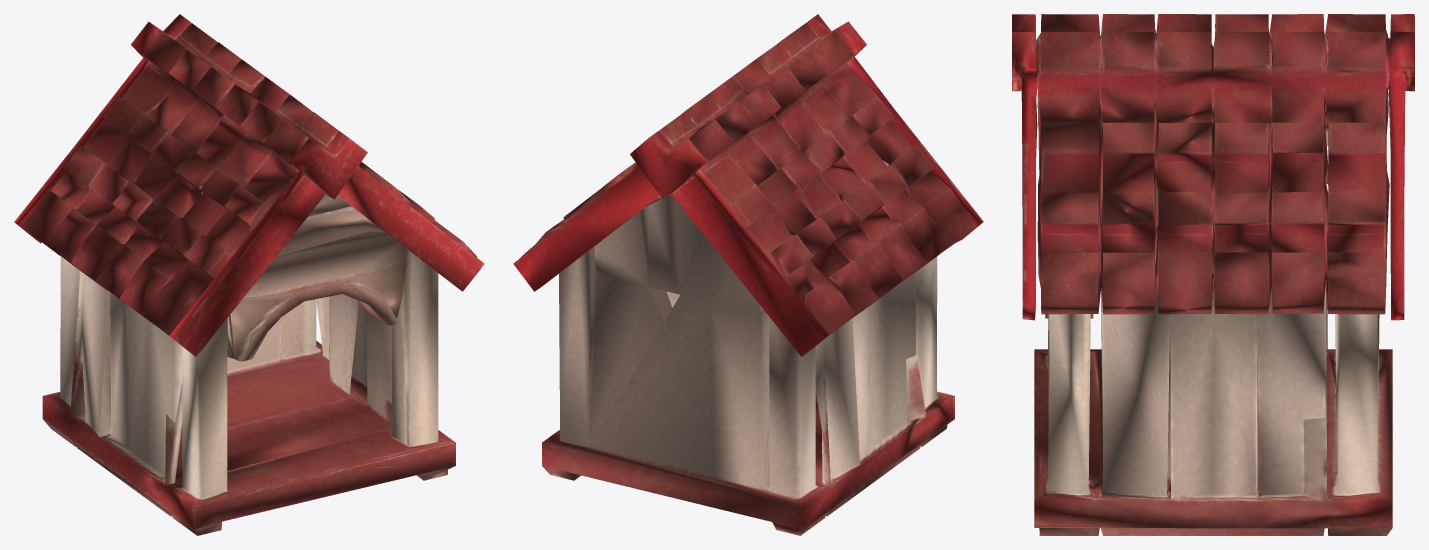
The model's file is Kennel.fbx.
3 renders of one model, left to right at view 1: azimuth 30°, elevation 25°; view 2: azimuth 150°, elevation 25°; view 3: azimuth 270°, elevation 25°, orthographic. The views are drawn at different scales.
Parts seen in each view (by area): view 1: Mesh_0; view 2: Mesh_0; view 3: Mesh_0.
Part boxes in pixels (x1,y1,x2,y2): Mesh_0: (14,14,484,535); Mesh_0: (513,14,983,535); Mesh_0: (1012,14,1414,535).
Size of the model in its own units: 166 by 190 by 157.
Materials: 1 (1 with a texture image).
